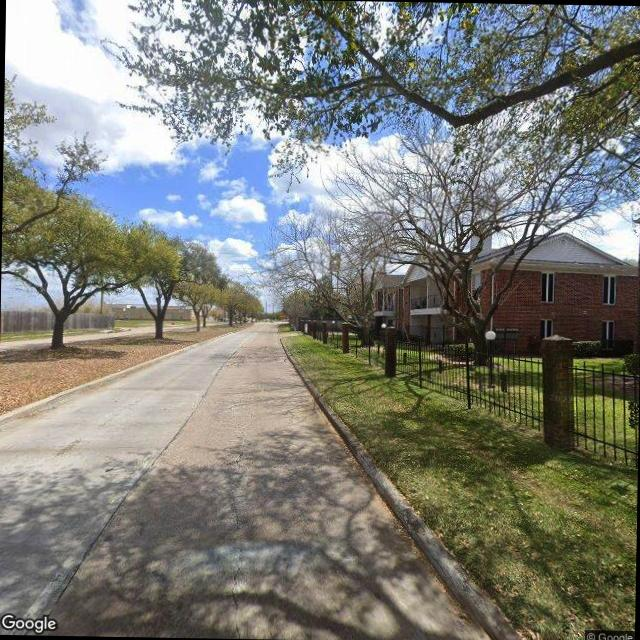pothole: (226, 408, 247, 638)
